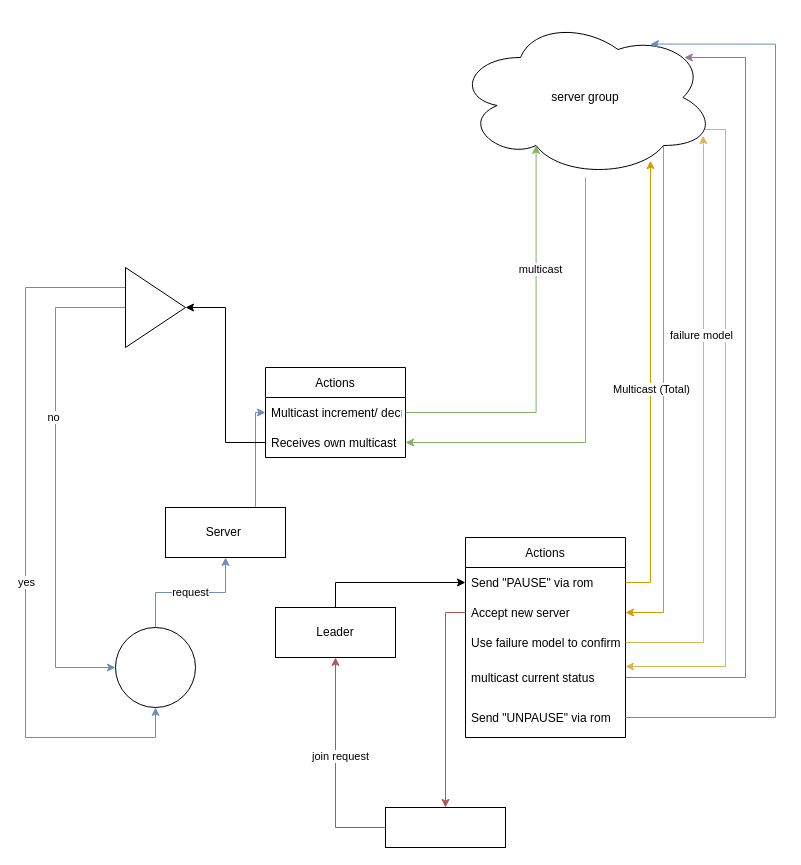
Image size: 801x865. Some labels were removed from this diagram. Here are the shapes that lost their labels. From the top down, the centre of each, then its label:
At (x=155, y=307): "<= max".
At (x=155, y=667): "Client".
At (x=445, y=827): "New Server".
